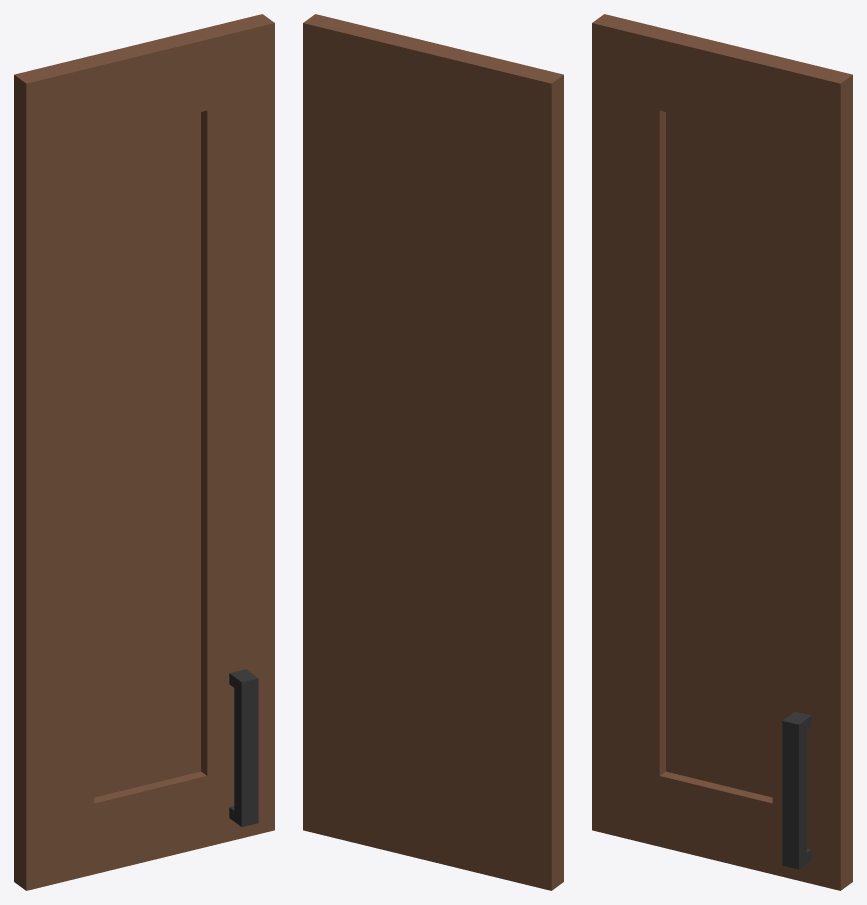
The model's file is Door2_C2_14.fbx.
The picture shows the model from 3 angles, left to right: view 1: azimuth 30°, elevation 25°; view 2: azimuth 150°, elevation 25°; view 3: azimuth 330°, elevation 25°; orthographic projection.
Visible parts, largest first — view 1: Door2_C2_14; view 2: Door2_C2_14; view 3: Door2_C2_14.
Part boxes in pixels (left/top/right/bottom): Door2_C2_14: left=14, top=14, right=274, bottom=890; Door2_C2_14: left=303, top=14, right=563, bottom=890; Door2_C2_14: left=592, top=14, right=852, bottom=890.
Bounding box in the file's own units: 29 × 90 × 5.03.
